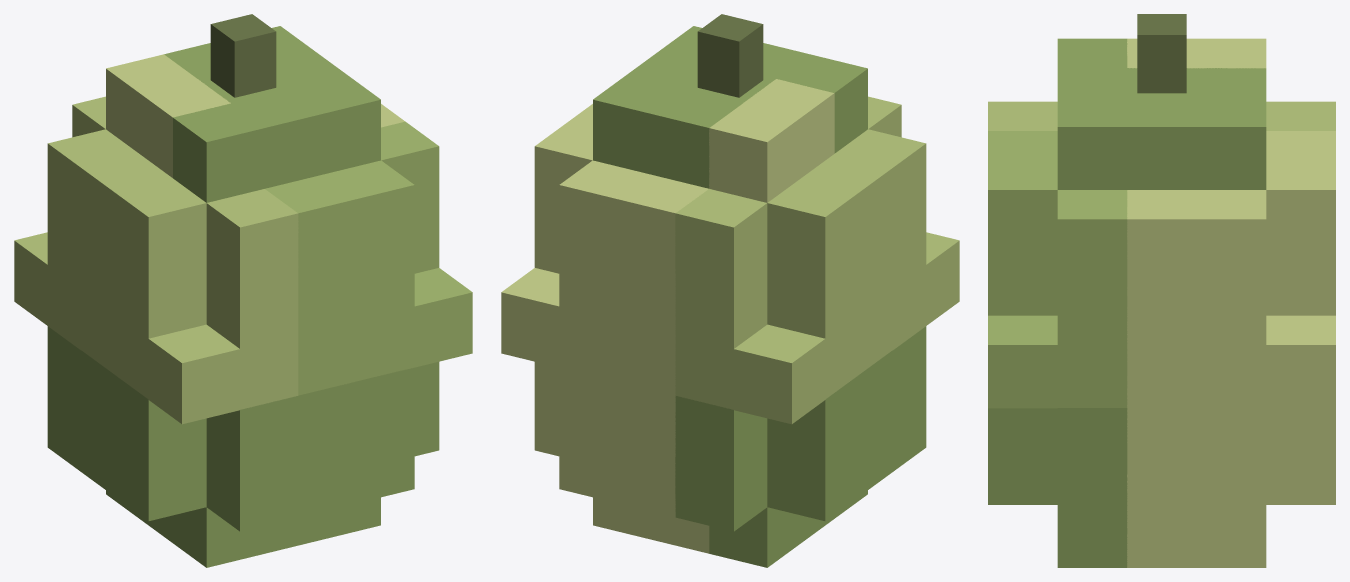
File: PF-06_sweet_calabash.glb
The picture shows the model from 3 angles, left to right: view 1: azimuth 30°, elevation 25°; view 2: azimuth 150°, elevation 25°; view 3: azimuth 270°, elevation 25°; orthographic projection. The views are drawn at different scales.
Visible parts, largest first — view 1: Sweet Calabash · original workbench cubes; view 2: Sweet Calabash · original workbench cubes; view 3: Sweet Calabash · original workbench cubes.
Part boxes in pixels (<box>): Sweet Calabash · original workbench cubes: <box>14,14,472,567</box>; Sweet Calabash · original workbench cubes: <box>501,14,959,567</box>; Sweet Calabash · original workbench cubes: <box>988,14,1335,567</box>.
Bounding box in the file's own units: 0.0701 × 0.111 × 0.0701.
